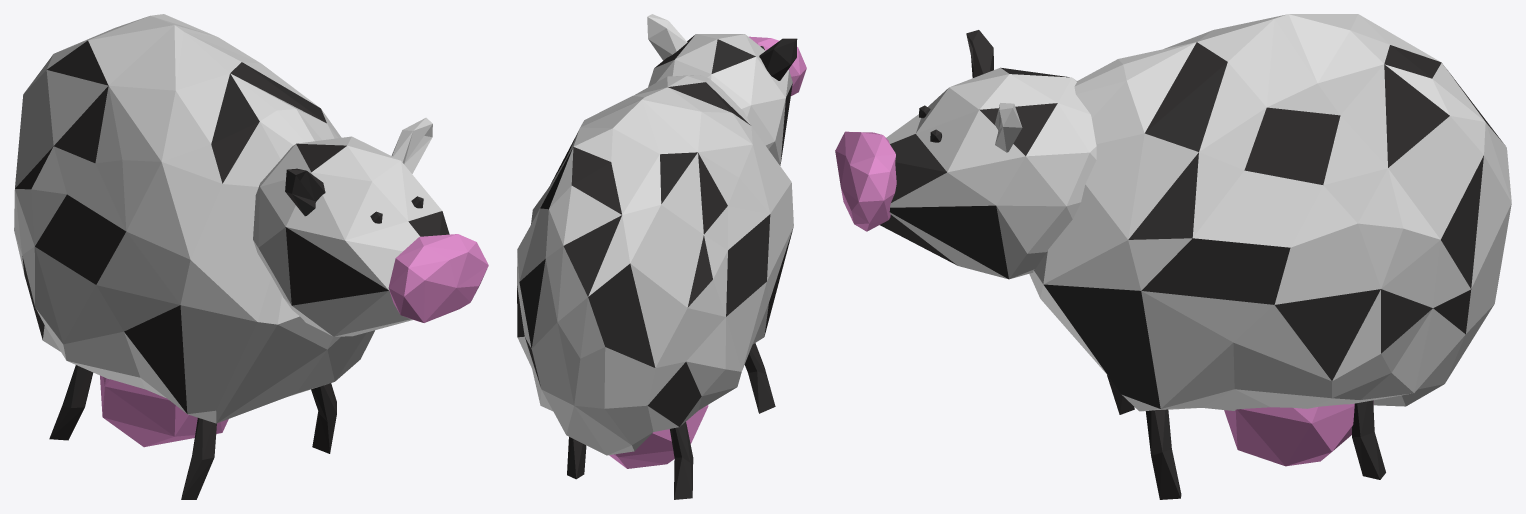
File: cow.fbx
3 views of the same model, side by side, from view 1: azimuth 30°, elevation 25°; view 2: azimuth 150°, elevation 25°; view 3: azimuth 270°, elevation 25° (orthographic). The views are drawn at different scales.
Visible parts, largest first — view 1: Sphere, Icosphere, Icosphere.001, Icosphere.006, Icosphere.002, Icosphere.005, Icosphere.003, Sphere.002, Sphere.001; view 2: Sphere, Icosphere, Icosphere.006, Icosphere.005, Sphere.002, Icosphere.002, Sphere.001, Icosphere.001, Icosphere.004; view 3: Sphere, Icosphere, Icosphere.006, Icosphere.001, Icosphere.003, Icosphere.004, Sphere.002, Sphere.001.
Boxes of the visible parts, bbox=[...] form: Sphere: bbox=[14, 14, 374, 423]; Icosphere: bbox=[253, 136, 449, 336]; Icosphere.001: bbox=[388, 234, 488, 322]; Icosphere.006: bbox=[100, 375, 228, 447]; Icosphere.002: bbox=[181, 418, 216, 499]; Icosphere.005: bbox=[49, 365, 93, 440]; Icosphere.003: bbox=[311, 383, 336, 453]; Sphere.002: bbox=[391, 117, 432, 173]; Sphere.001: bbox=[285, 168, 325, 216]; Sphere: bbox=[517, 75, 793, 455]; Icosphere: bbox=[648, 34, 792, 165]; Icosphere.006: bbox=[609, 405, 708, 468]; Icosphere.005: bbox=[670, 422, 693, 499]; Sphere.002: bbox=[647, 14, 687, 60]; Icosphere.002: bbox=[744, 343, 775, 413]; Sphere.001: bbox=[759, 38, 797, 80]; Icosphere.001: bbox=[749, 36, 806, 95]; Icosphere.004: bbox=[567, 437, 586, 479]; Sphere: bbox=[1029, 14, 1511, 411]; Icosphere: bbox=[880, 67, 1096, 279]; Icosphere.006: bbox=[1224, 400, 1373, 466]; Icosphere.001: bbox=[835, 131, 896, 231]; Icosphere.003: bbox=[1145, 409, 1181, 499]; Icosphere.004: bbox=[1352, 400, 1385, 479]; Sphere.002: bbox=[994, 103, 1022, 152]; Sphere.001: bbox=[966, 30, 993, 77].
Size of the model in its own units: 166 by 261 by 356.
